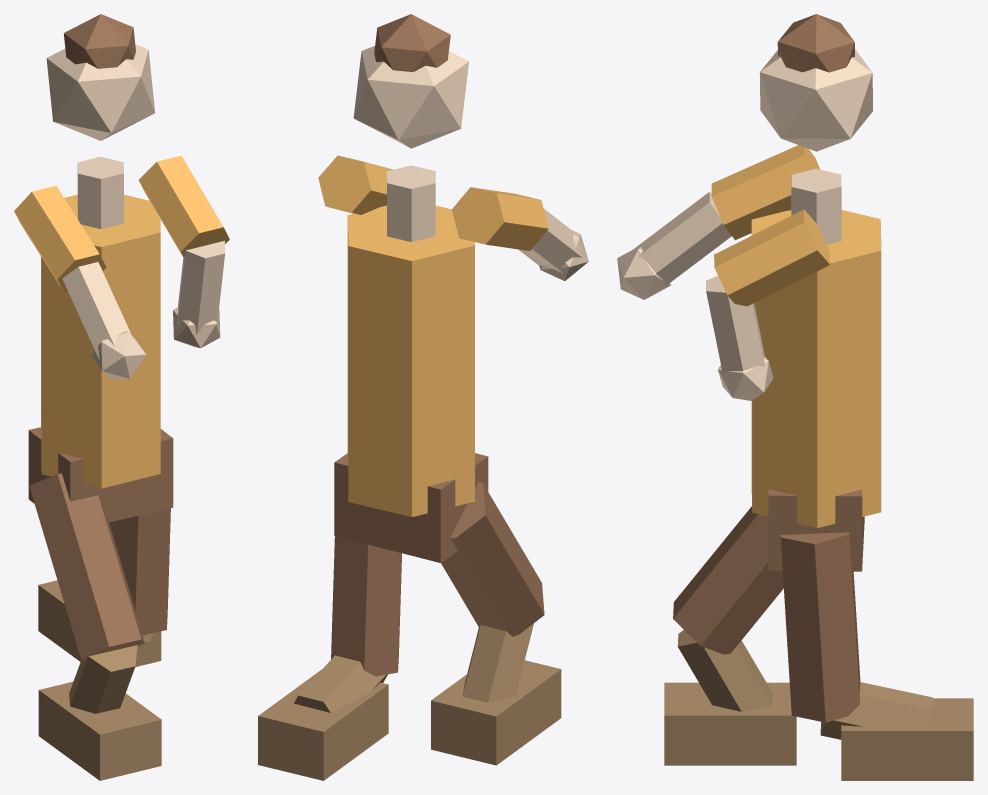
Rendered from pose_walk_01.glb.
The picture shows the model from 3 angles, left to right: view 1: azimuth 30°, elevation 25°; view 2: azimuth 150°, elevation 25°; view 3: azimuth 270°, elevation 25°; orthographic projection. The views are drawn at different scales.
Parts seen in each view (by area): view 1: pose; view 2: pose; view 3: pose.
Boxes of the visible parts, x1,y1,x2,y2 form: pose: (14,14,229,780); pose: (258,14,588,780); pose: (617,14,973,780).
Bounding box in the file's own units: 0.3969 × 1.51 × 0.6454.
